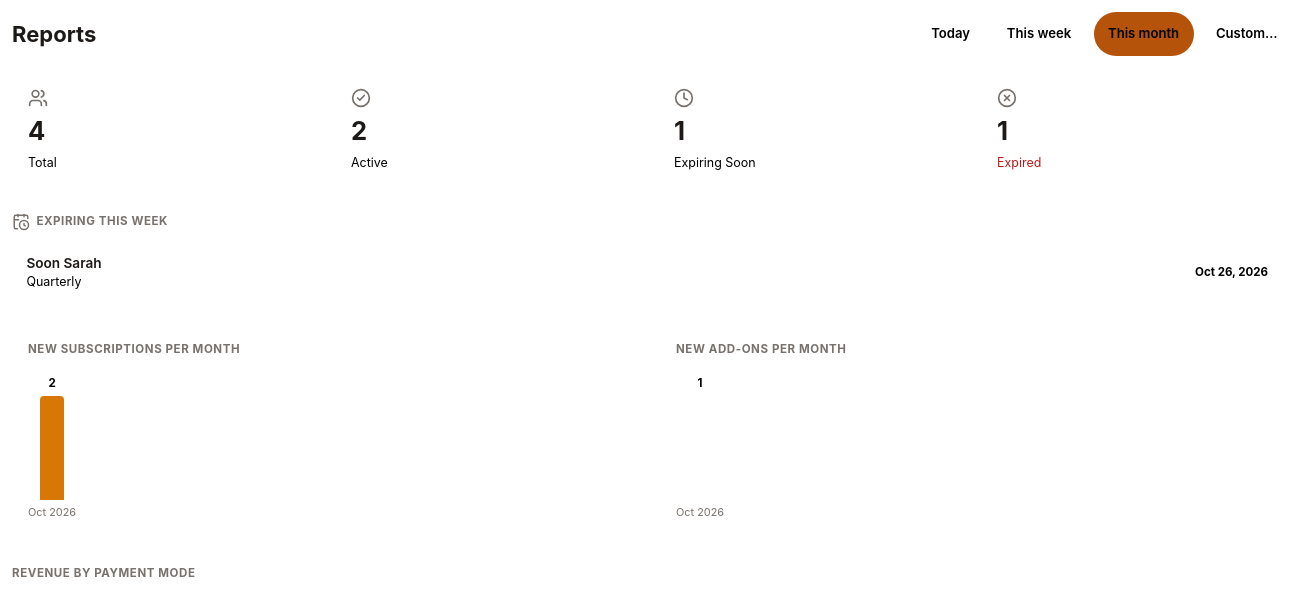
Test case: ReportsPage — date range › Custom reveals the date form; a reversed range is refused without fetching
Expected: the field labelled "Start date" is not shown
Click the button "Custom…" at (1247, 34), box [1202,12,1292,56]
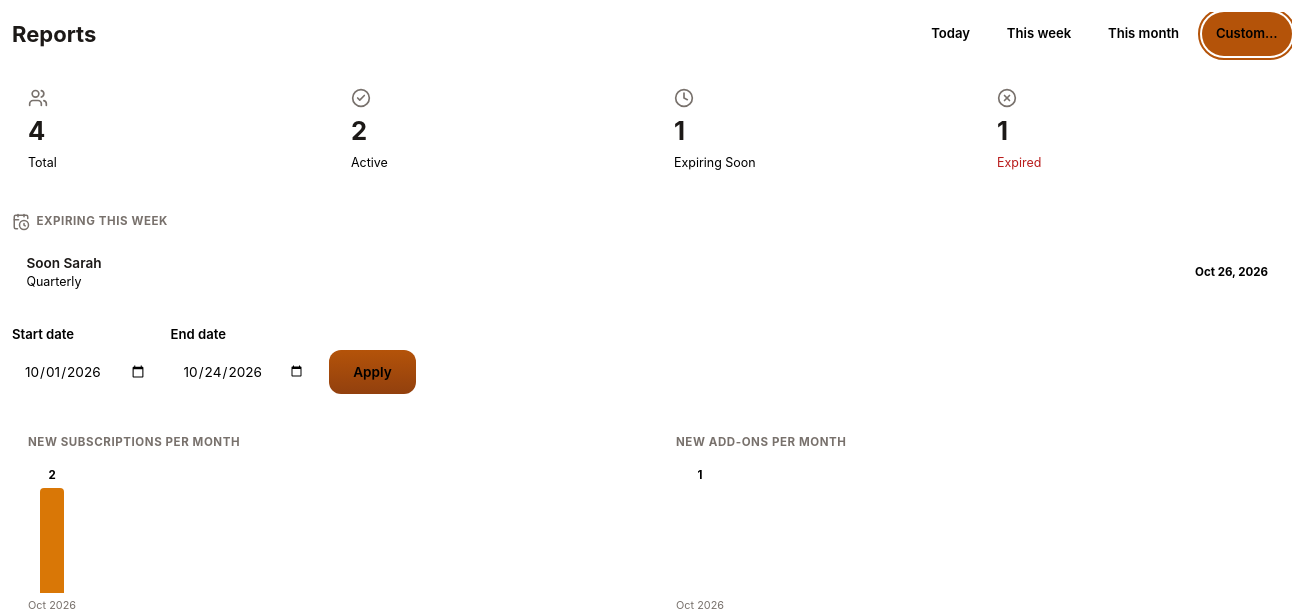
Type "2026-06-20" into the date field labelled "Start date" at (85, 372), box [12,350,159,394]
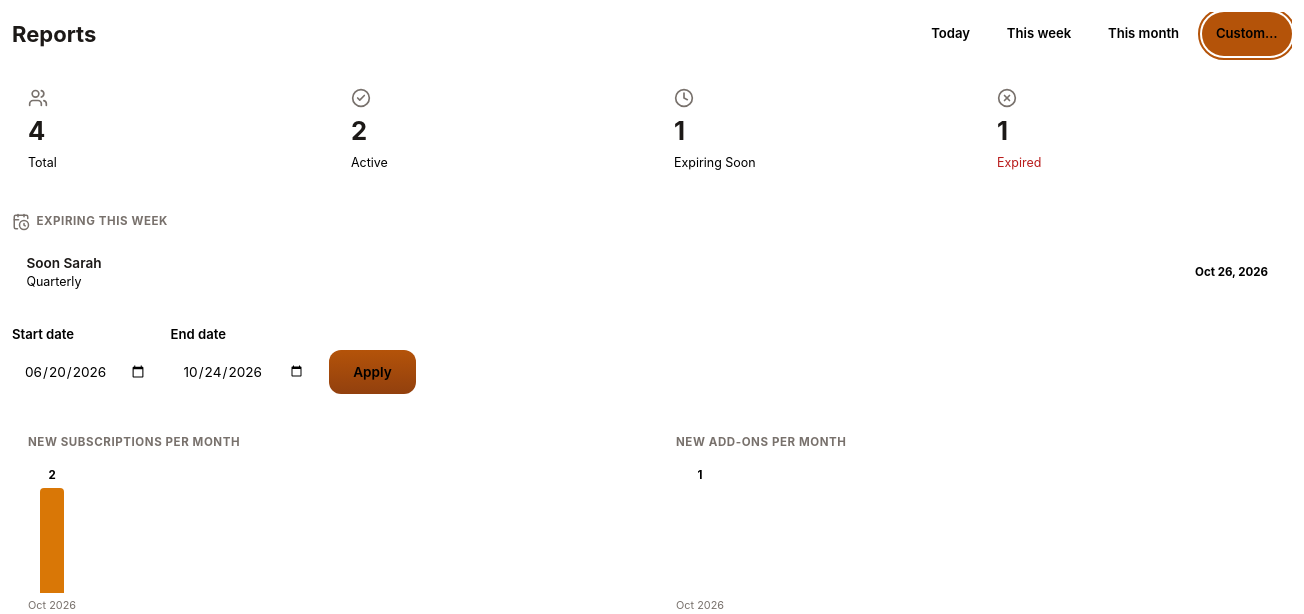
Type "2026-06-10" into the date field labelled "End date" at (244, 372), box [171,350,317,394]
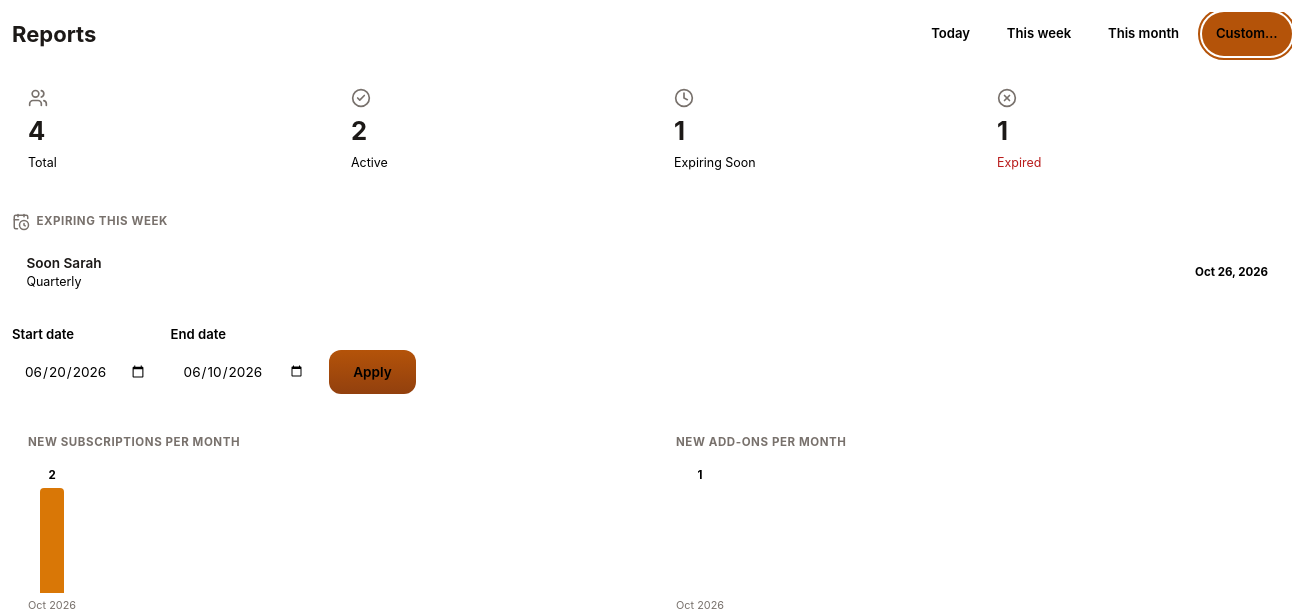
Click the button "Apply" at (372, 372), box [329,350,416,394]
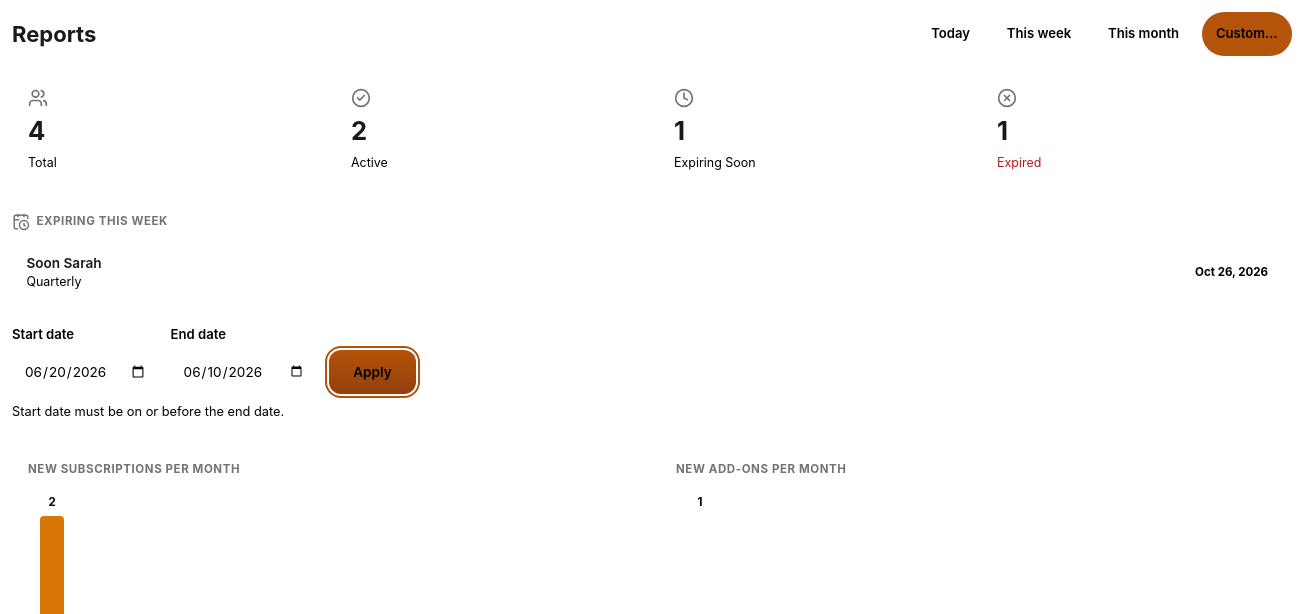
Expected: the text "Start date must be on or before the end date." is shown, [12,404,284,419]
